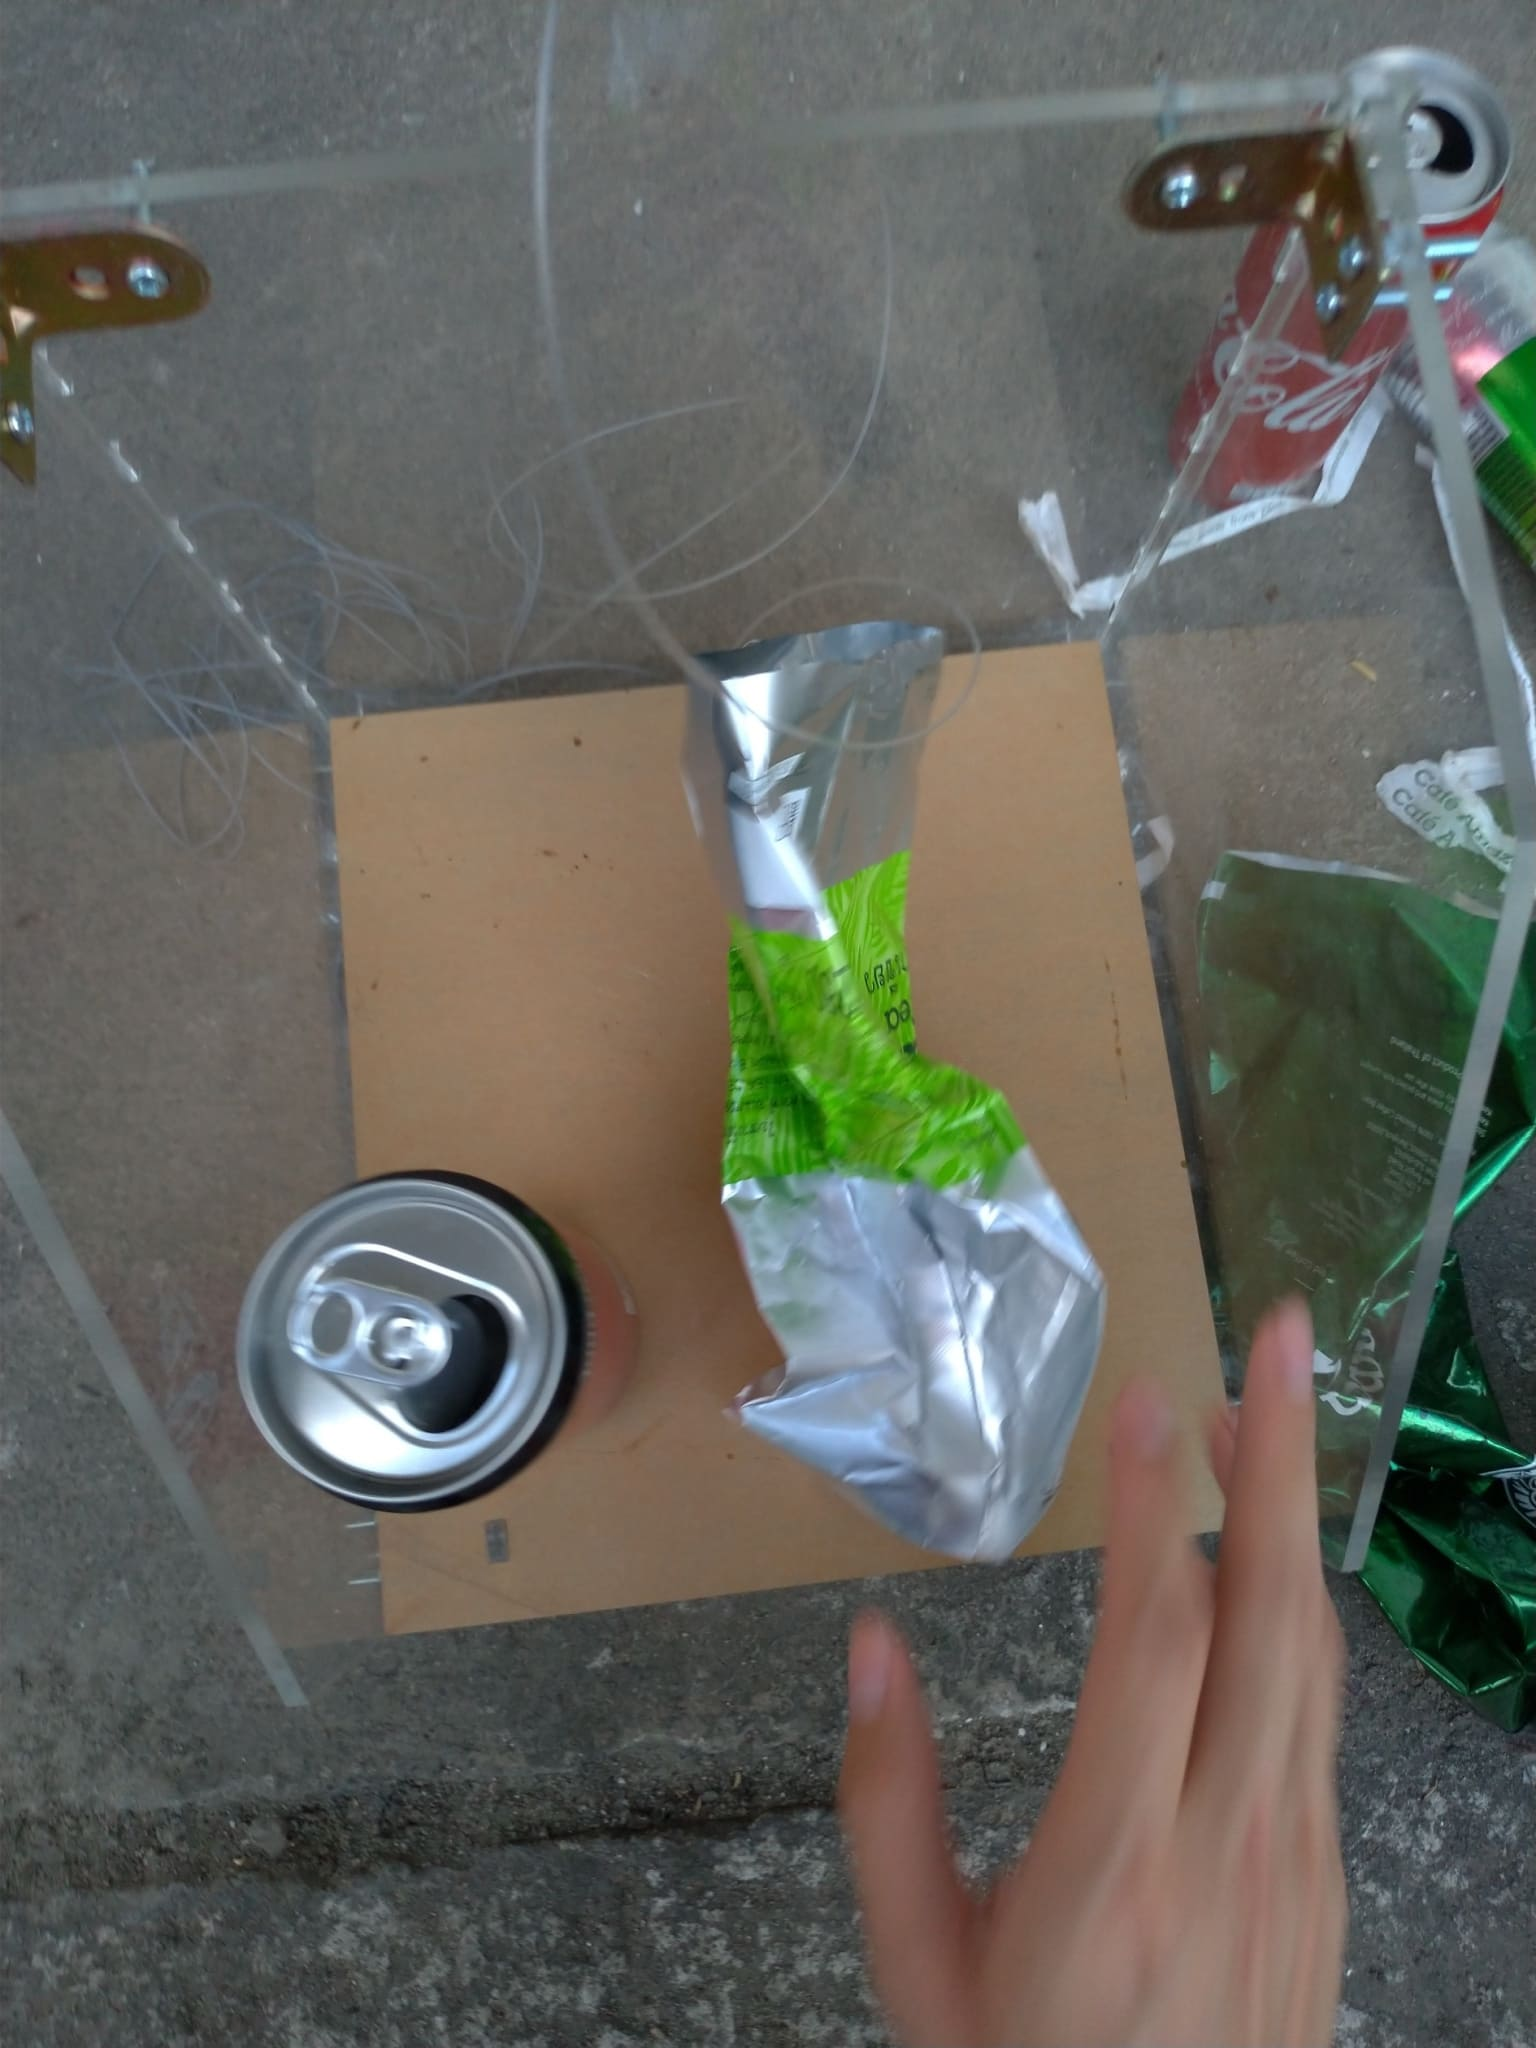AlCan: (1157, 52, 1517, 505), (244, 1177, 641, 1514), (1394, 208, 1536, 553)
Others: (694, 627, 1104, 1564), (1191, 848, 1536, 1738), (1029, 384, 1383, 619), (1375, 445, 1530, 845)
